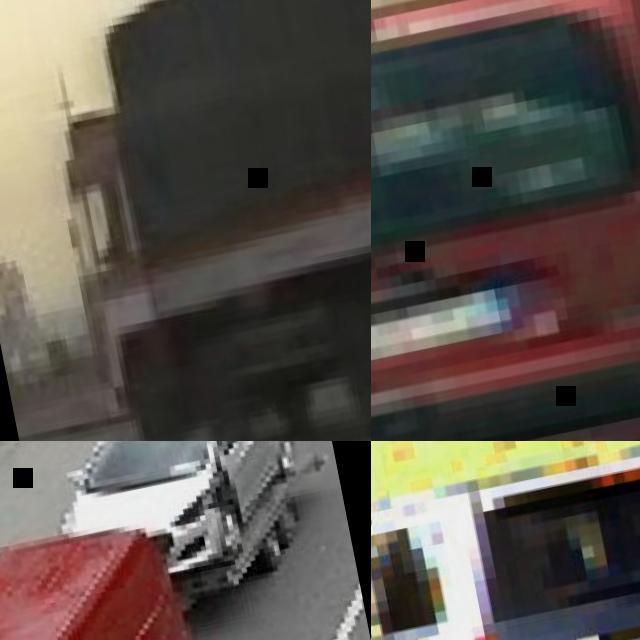car: (64, 441, 245, 608)
